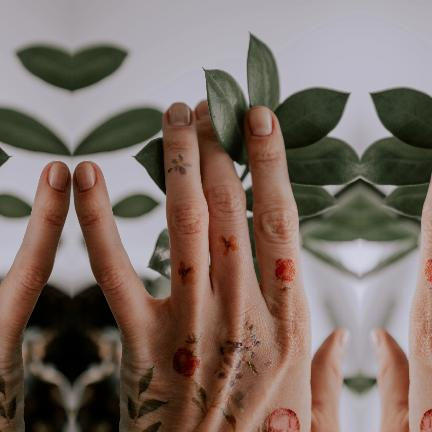Nail: (247, 106, 273, 136), (74, 161, 95, 192), (49, 161, 70, 192), (168, 102, 190, 126), (332, 326, 344, 370), (376, 326, 388, 370)
